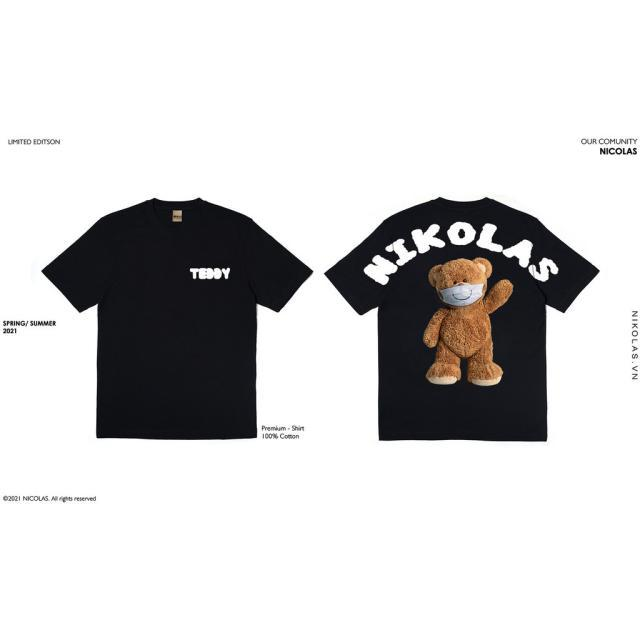Shirt: (326, 195, 604, 444), (40, 194, 316, 443)
